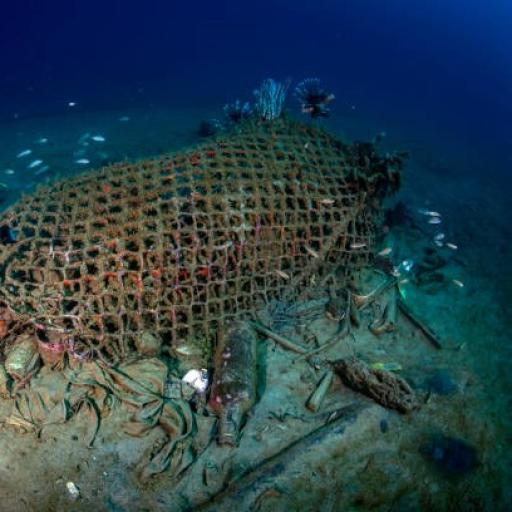net: (2, 118, 412, 354)
